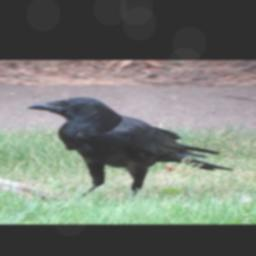Crow: (24, 96, 235, 199)
